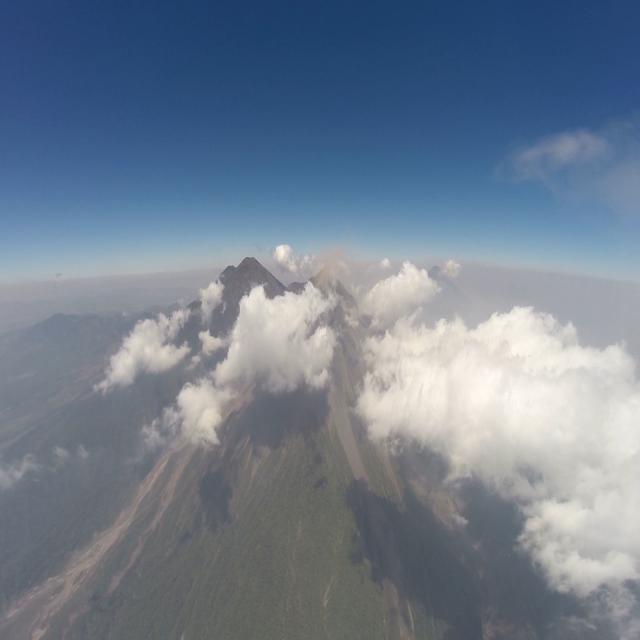Summit: (308, 265, 342, 283)
